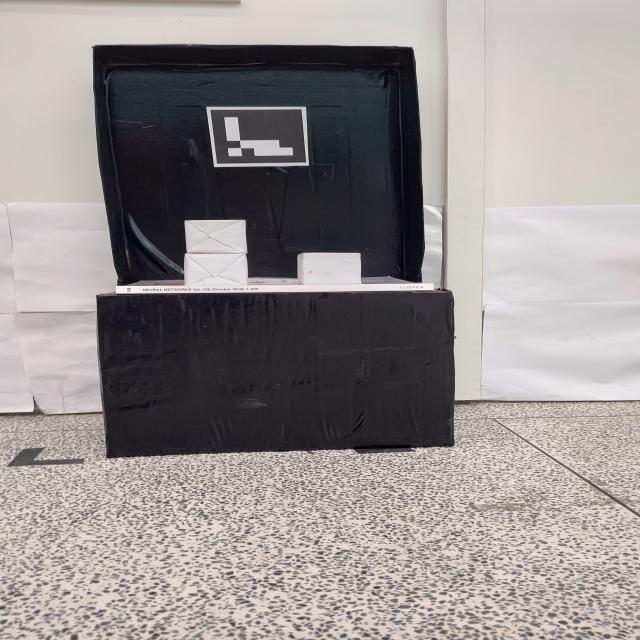bale: (294, 250, 364, 286), (182, 219, 251, 253), (181, 253, 252, 286)
